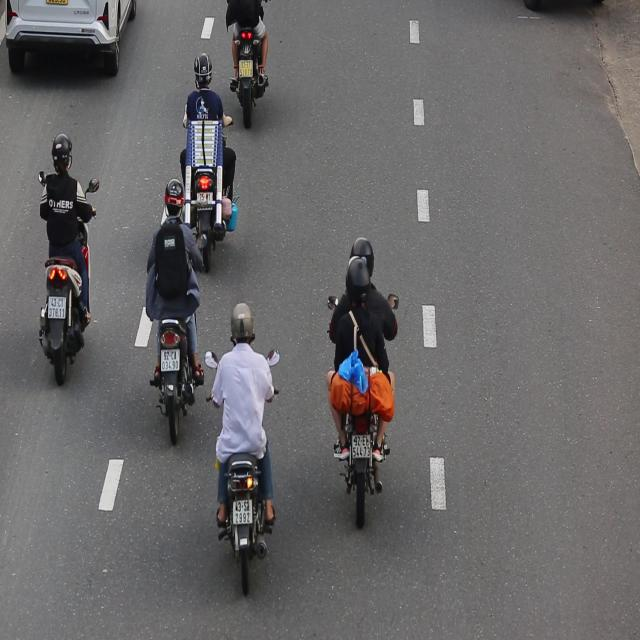motorbike: (319, 221, 402, 532), (203, 291, 282, 600), (26, 115, 101, 392), (138, 172, 206, 445)
